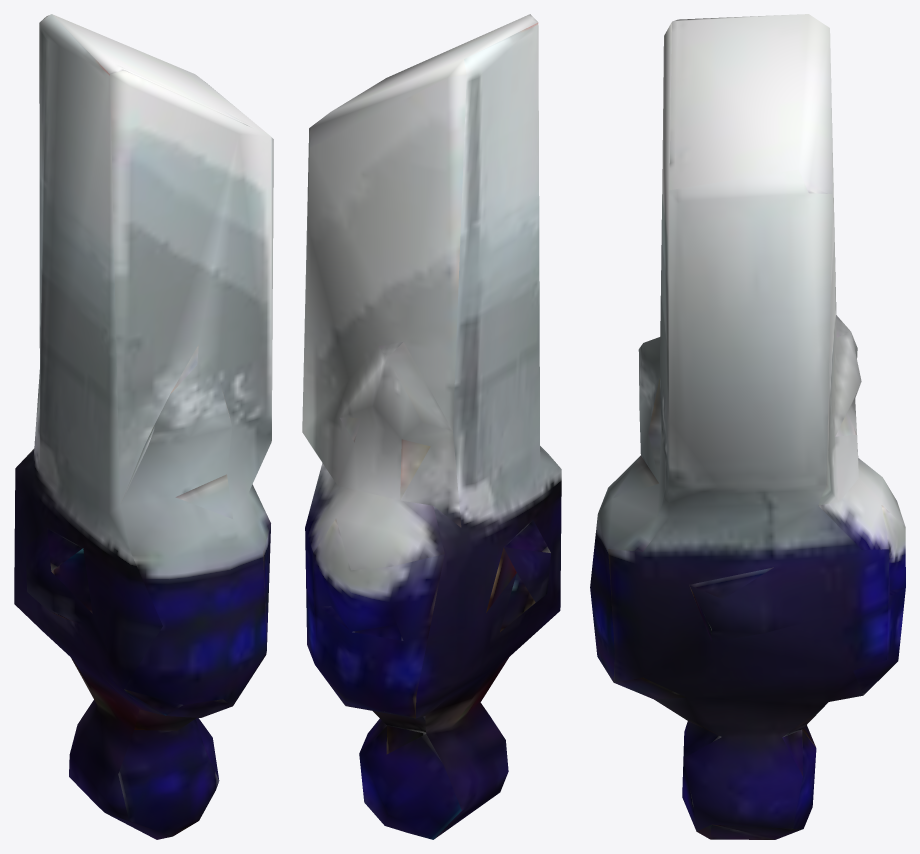
The model's file is blade_wide_small.glb.
3 views of the same model, side by side, from view 1: azimuth 30°, elevation 25°; view 2: azimuth 150°, elevation 25°; view 3: azimuth 270°, elevation 25° (orthographic).
Visible parts, largest first — view 1: blade; view 2: blade; view 3: blade.
Part boxes in pixels (x1,y1,x2,y2): blade: (14,14,273,839); blade: (302,14,561,839); blade: (590,14,905,839).
Size of the model in its own units: 0.0862 by 0.3047 by 0.1103.
Materials: 1 (1 with a texture image).
